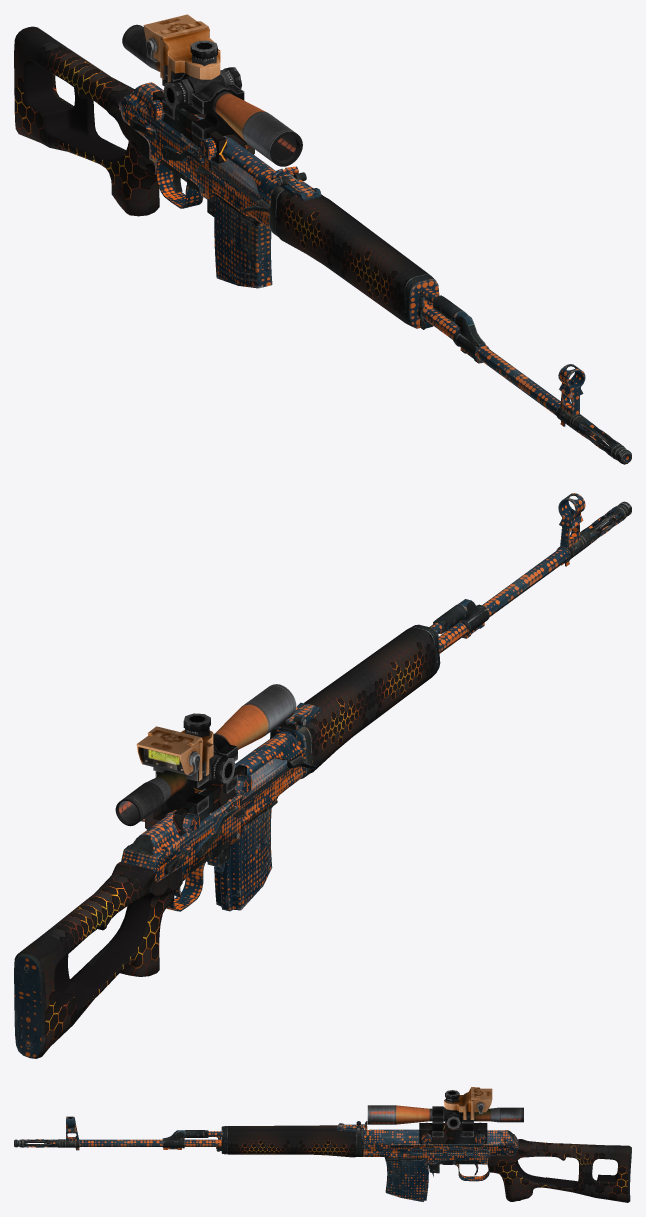
File: SVD.FBX
The picture shows the model from 3 angles, top to bottom: view 1: azimuth 30°, elevation 25°; view 2: azimuth 150°, elevation 25°; view 3: azimuth 270°, elevation 25°; orthographic projection. The views are drawn at different scales.
Visible parts, largest first — view 1: Body; view 2: Body; view 3: Body.
Part boxes in pixels (x1,y1,x2,y2): Body: (14, 14, 631, 464); Body: (14, 493, 631, 1058); Body: (14, 1087, 631, 1202).
Size of the model in its own units: 5.06 by 14.38 by 73.21.
